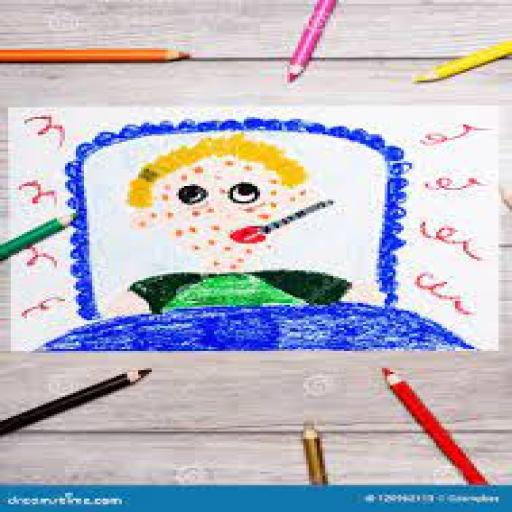person: (102, 129, 360, 334)
